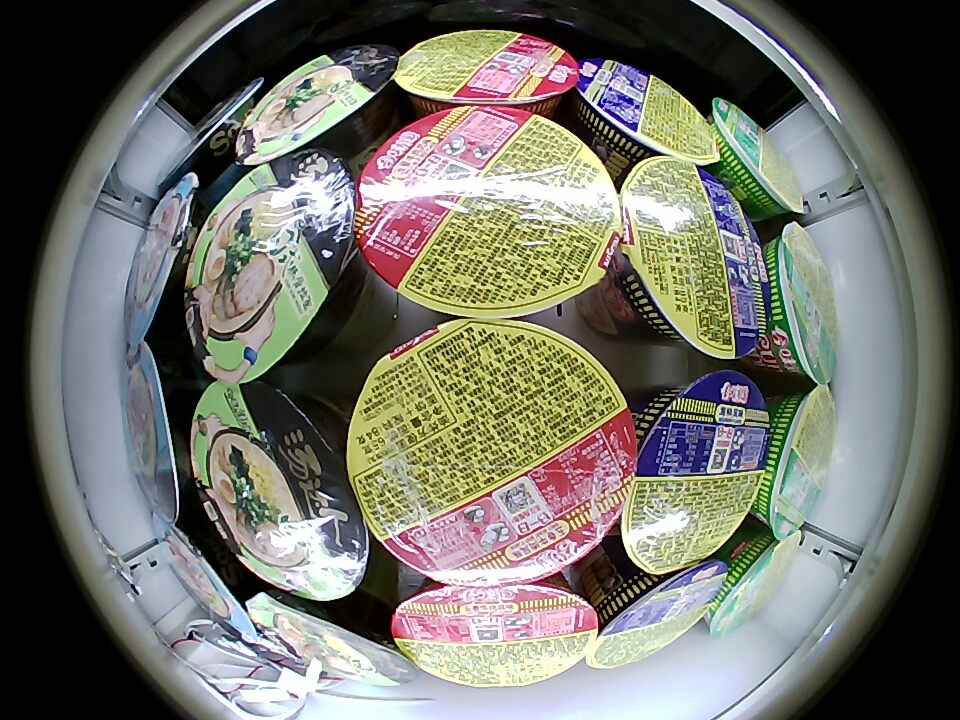heweidao: (617, 155, 771, 359), (623, 370, 773, 574), (573, 57, 719, 167), (588, 560, 728, 669)
heweidao2: (755, 381, 837, 541), (764, 220, 839, 386), (709, 95, 808, 219), (706, 527, 803, 639)
heweidao3: (345, 317, 636, 585), (353, 107, 621, 319), (391, 577, 599, 688), (395, 29, 578, 115)
tangdaren: (180, 147, 359, 382), (190, 378, 369, 601), (234, 42, 401, 168), (248, 590, 414, 689)
tangdaren3: (152, 509, 260, 642), (123, 172, 204, 347), (124, 345, 198, 527), (159, 78, 265, 190)
